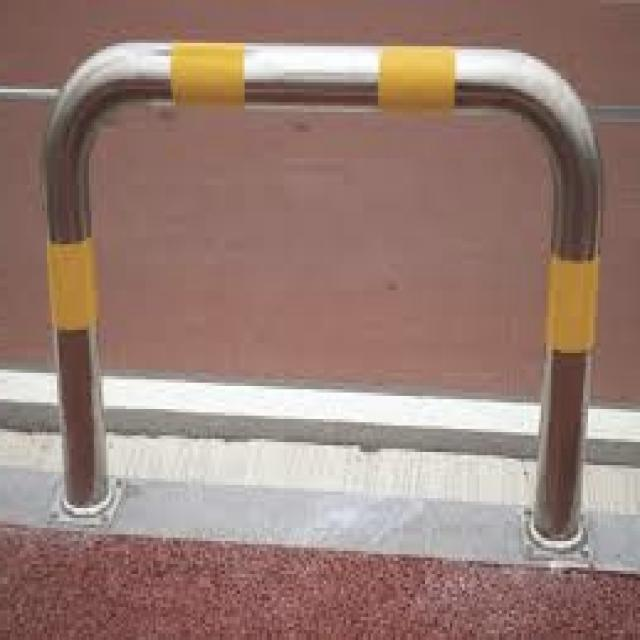bollard: (37, 37, 609, 569)
